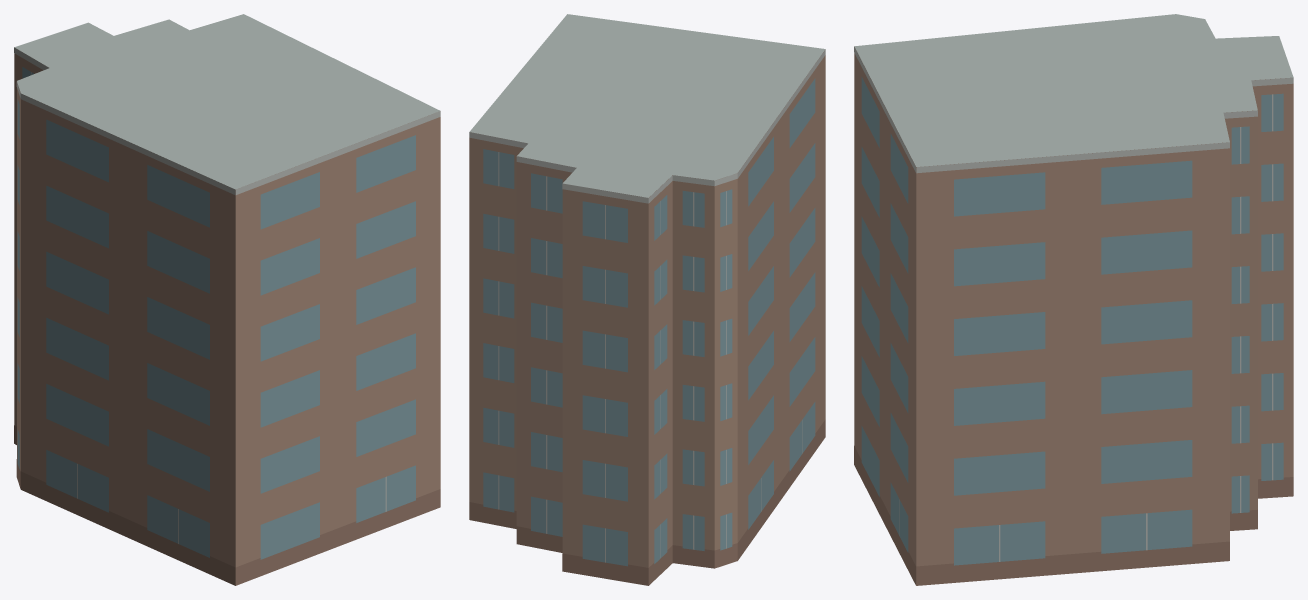
Rendered from survey-upis-32568257.glb.
3 renders of one model, left to right at view 1: azimuth 30°, elevation 25°; view 2: azimuth 150°, elevation 25°; view 3: azimuth 270°, elevation 25°, orthographic. The views are drawn at different scales.
Visible parts, largest first — view 1: survey-upis-32568257.tmp; view 2: survey-upis-32568257.tmp; view 3: survey-upis-32568257.tmp.
Boxes of the visible parts, <box> form: survey-upis-32568257.tmp: <box>14,14,440,585</box>; survey-upis-32568257.tmp: <box>469,14,825,585</box>; survey-upis-32568257.tmp: <box>854,14,1293,585</box>.
Bounding box in the file's own units: 13.02 × 16.6 × 15.8.
